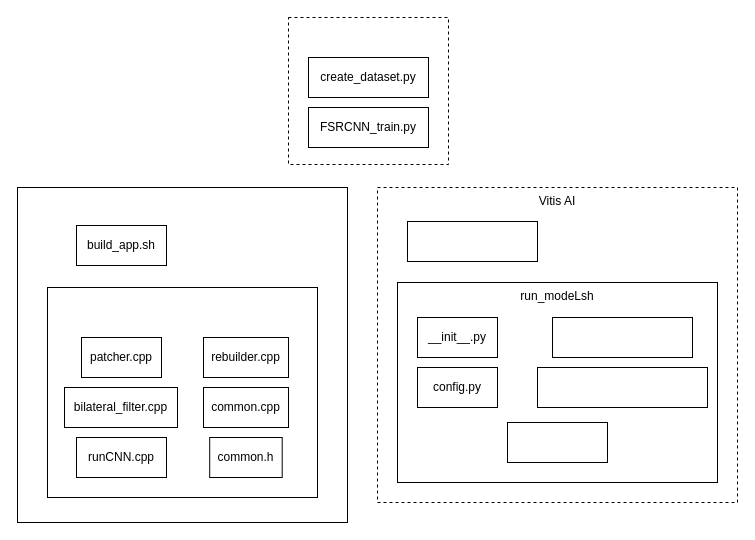
Some shapes in this 755 by 540 pixel diagram are drawn without their labels. The box of each missing label's shape, as (x1, y1, x2, y2) in pixels:
eval_quantized_model.py: (536, 366, 708, 408)
fsrcnn6_relu.h5: (506, 422, 608, 462)
IA training: (288, 16, 448, 164)
run_target.sh: (16, 186, 348, 522)
setup_docker_env.sh: (406, 220, 538, 262)
SuperRes7.cpp: (46, 286, 318, 498)
vai_q_tensorflow2.py: (552, 316, 692, 358)
